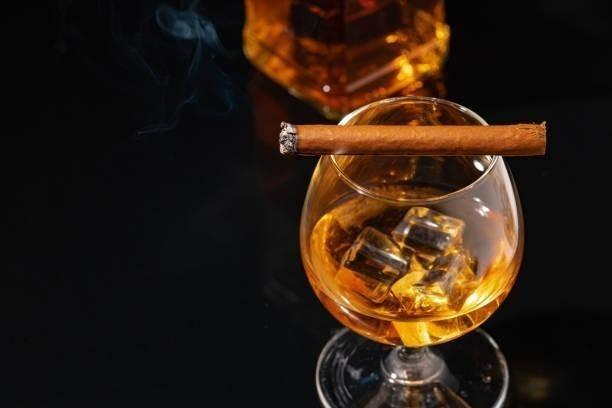glass-wine: (297, 94, 526, 408)
